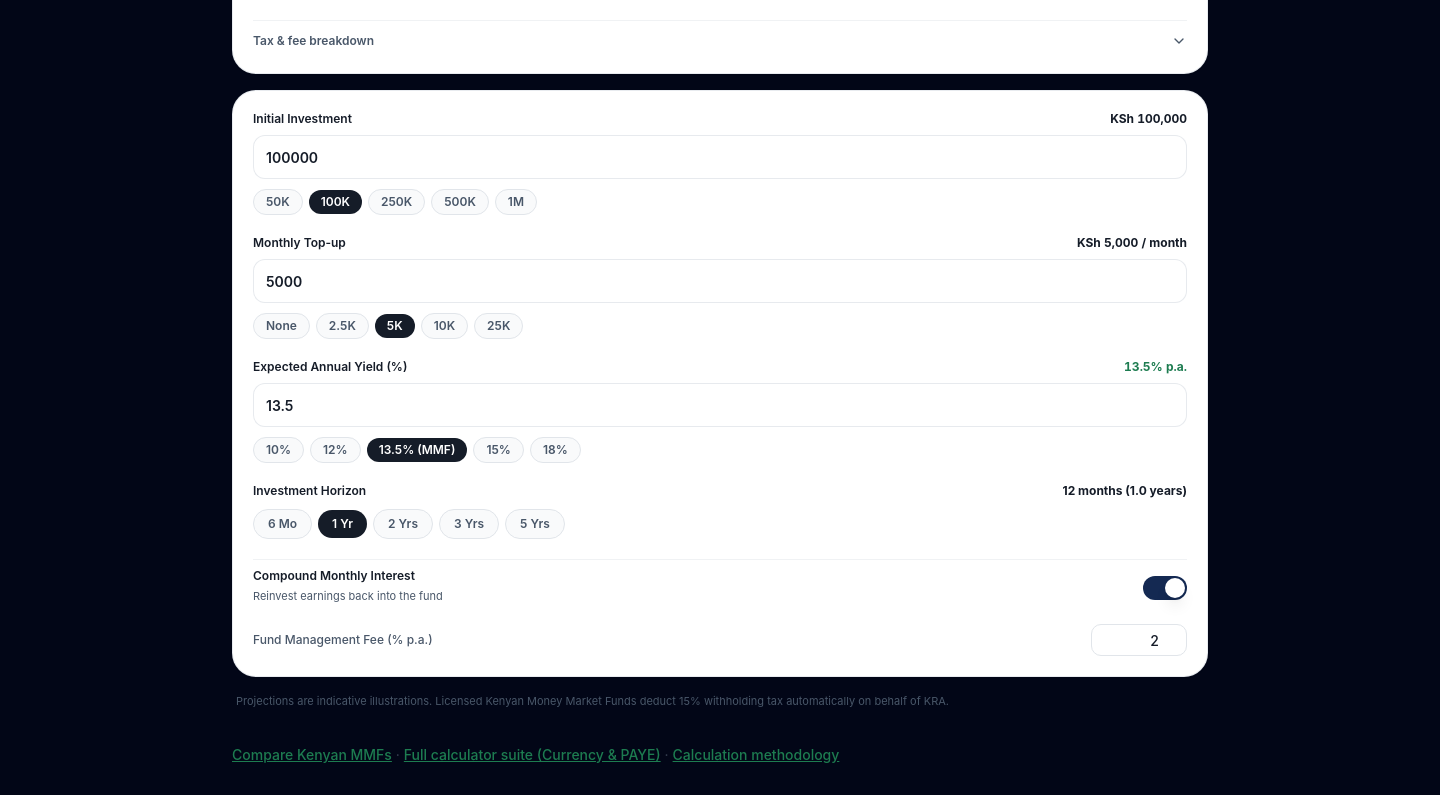
Research page journeys › reuses the interactive calculator and updates the projection
(page scrolled)
Replace the text in the number field labelled "Annual Yield (%)" with "10": (720, 405) x1=253 y1=383 x2=1187 y2=427
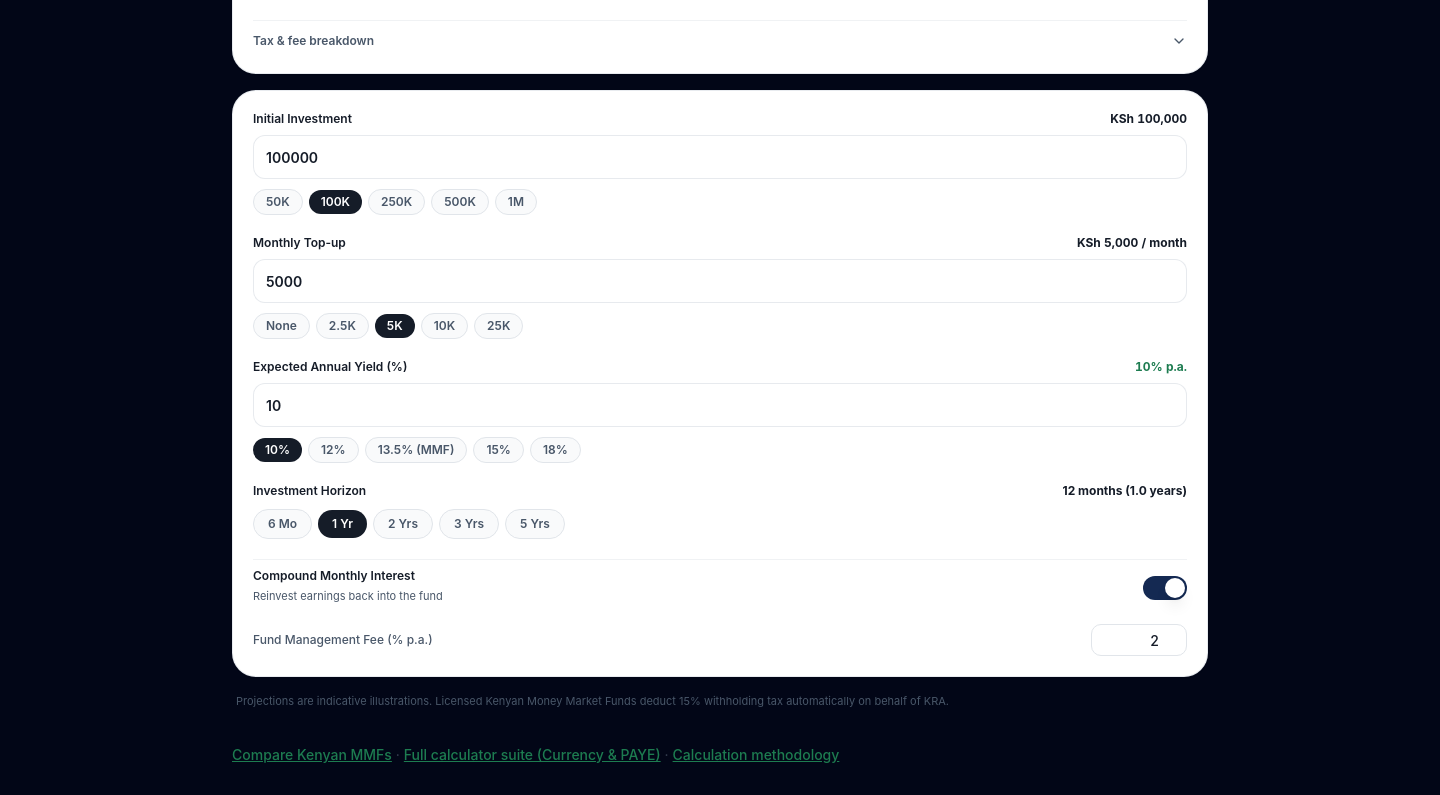
Replace the text in the number field named "Monthly top-up (KES)" with "0": (720, 281) x1=253 y1=259 x2=1187 y2=303
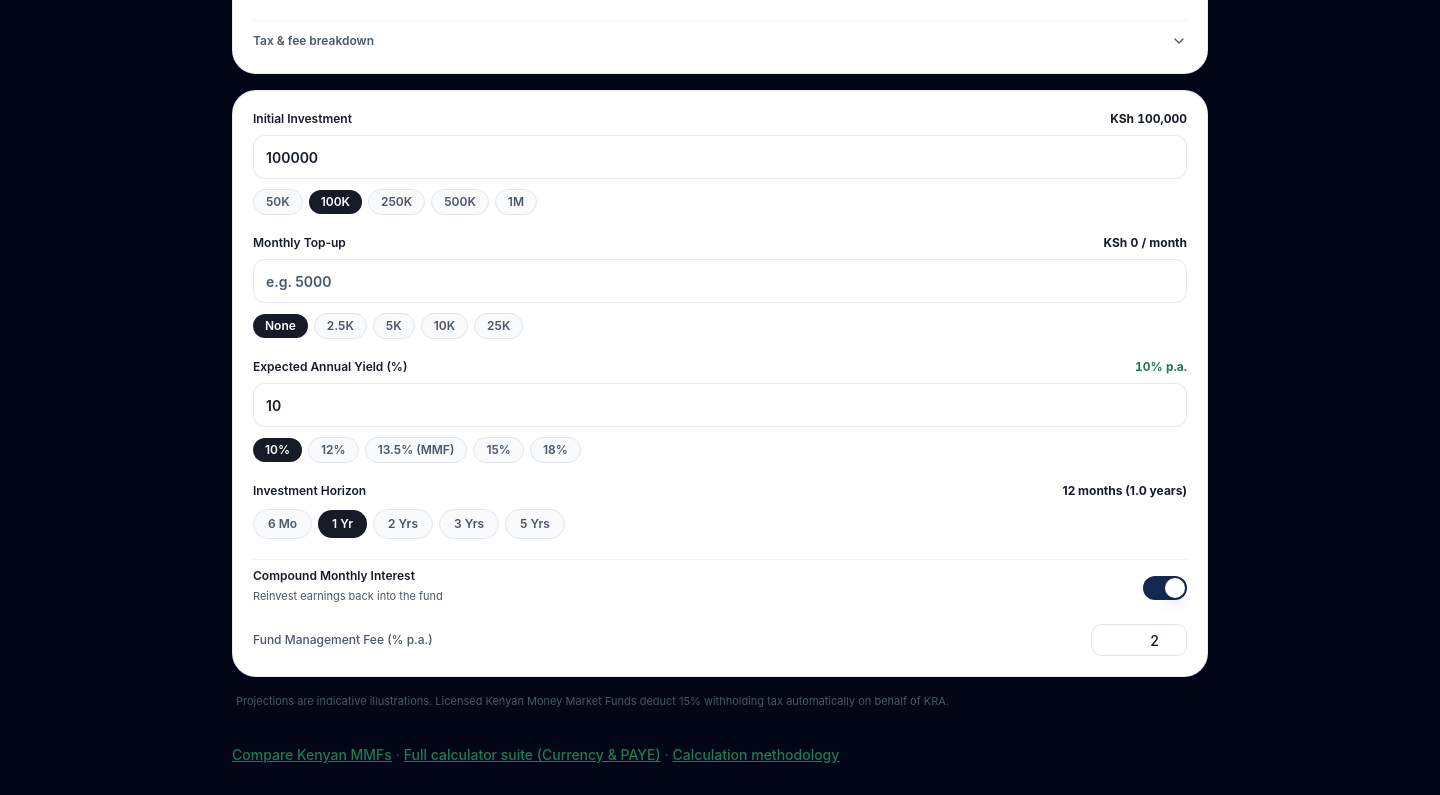
Replace the text in the number field named "Mgmt fee (% p.a.)" with "0": (1139, 640) x1=1091 y1=624 x2=1187 y2=656
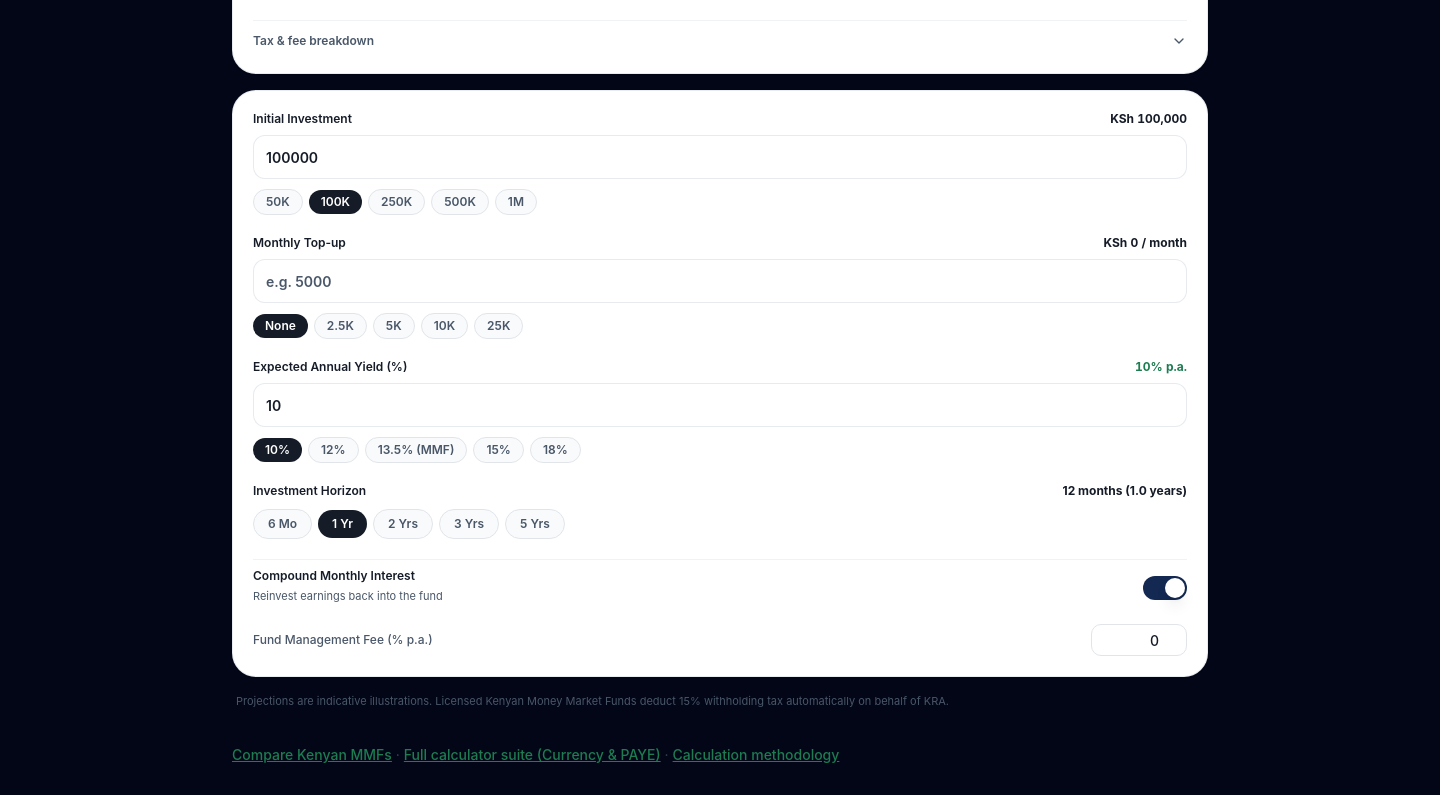
Click the switch: (1165, 588) x1=1143 y1=576 x2=1187 y2=600
(page scrolled)
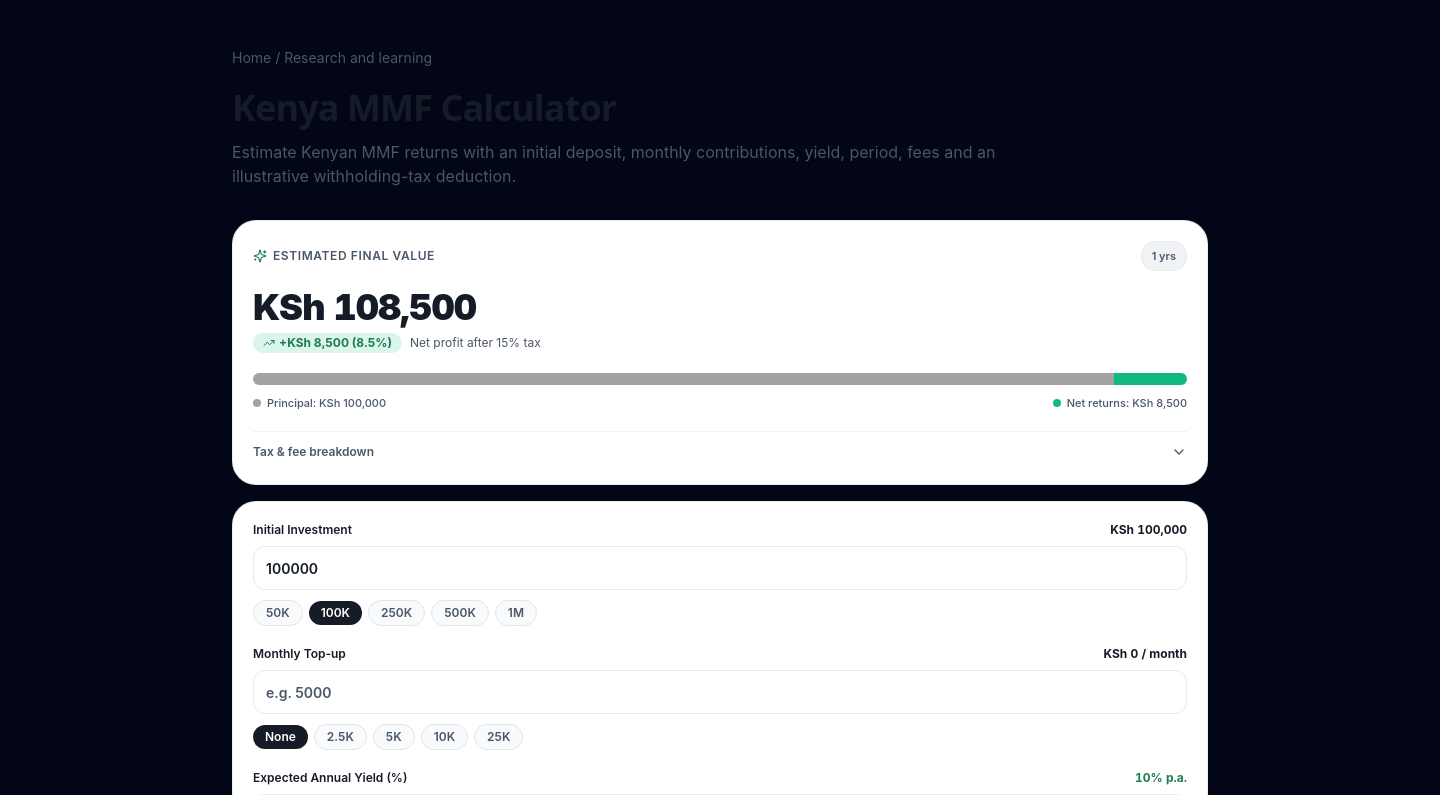
Check: the text "KSh 108,500" is shown, box x1=253 y1=285 x2=476 y2=329
